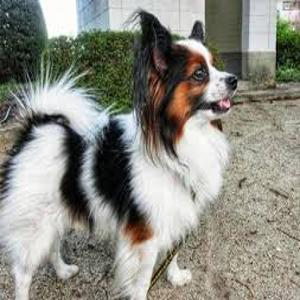yell: (0, 10, 238, 299)
